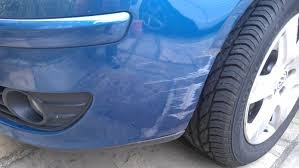Scratch: (142, 52, 218, 132)
